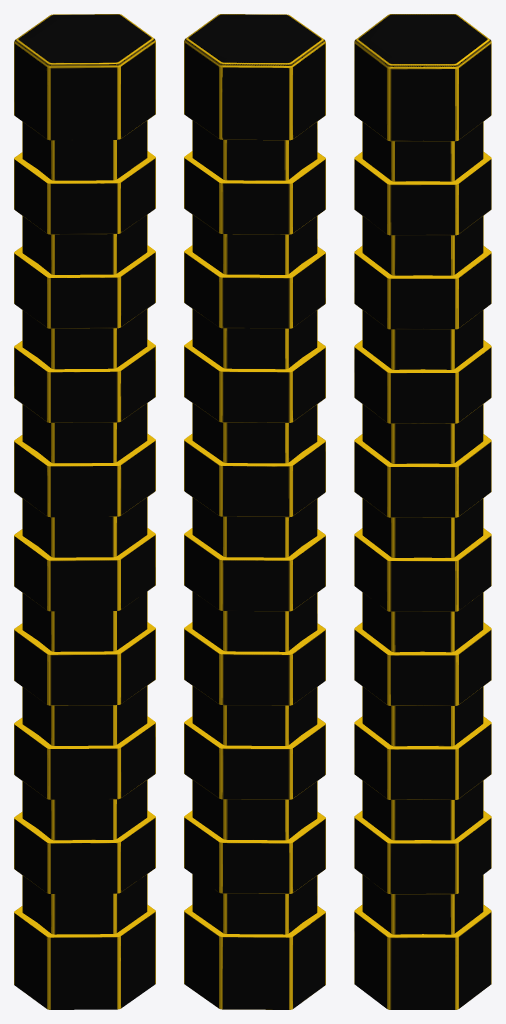
Rendered from v3_Hexa_On.fbx.
3 renders of one model, left to right at view 1: azimuth 30°, elevation 25°; view 2: azimuth 150°, elevation 25°; view 3: azimuth 270°, elevation 25°, orthographic.
Visible parts, largest first — view 1: Hex_LP_On; view 2: Hex_LP_On; view 3: Hex_LP_On.
Boxes of the visible parts, bbox=[...] form: Hex_LP_On: bbox=[14, 14, 155, 1009]; Hex_LP_On: bbox=[184, 14, 325, 1009]; Hex_LP_On: bbox=[354, 14, 491, 1009].
Size of the model in its own units: 180 by 1500 by 198.
Materials: 1 (1 with a texture image).
